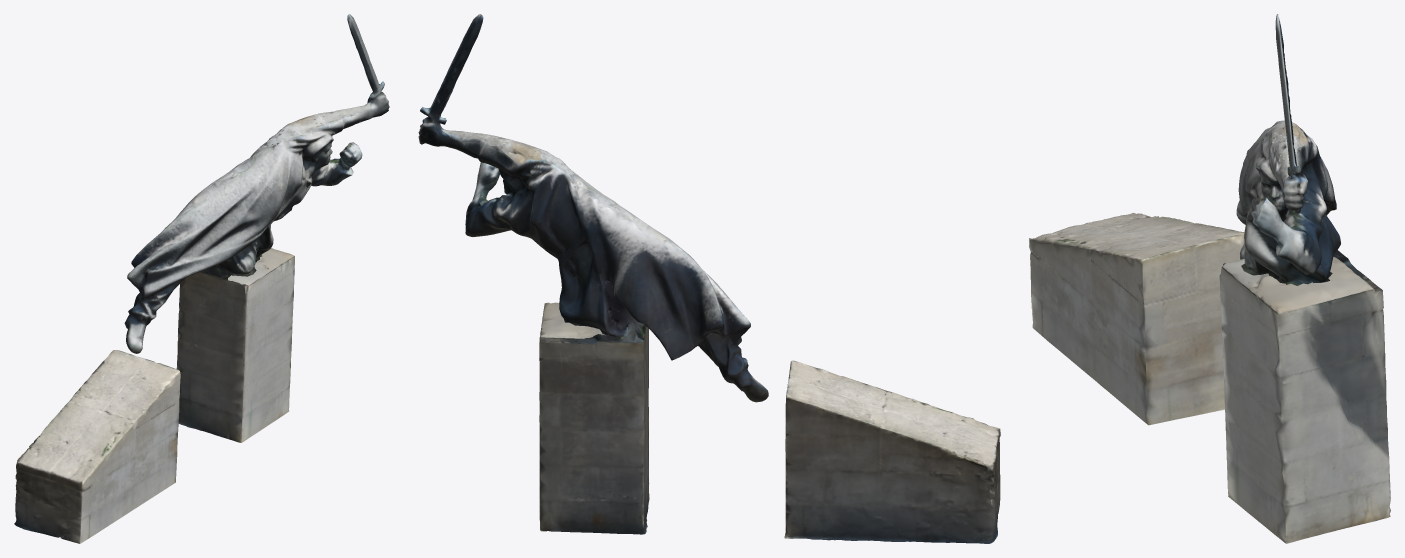
The picture shows the model from 3 angles, left to right: view 1: azimuth 30°, elevation 25°; view 2: azimuth 150°, elevation 25°; view 3: azimuth 270°, elevation 25°; orthographic projection. The views are drawn at different scales.
Visible parts, largest first — view 1: spanishdenkmal.512.50k; view 2: spanishdenkmal.512.50k; view 3: spanishdenkmal.512.50k.
Part boxes in pixels (x1,y1,x2,y2): spanishdenkmal.512.50k: (14, 14, 389, 543); spanishdenkmal.512.50k: (418, 14, 1000, 543); spanishdenkmal.512.50k: (1029, 14, 1390, 543).
Bounding box in the file's own units: 3.6 × 3.12 × 1.79.
1 material, 1 textured.
